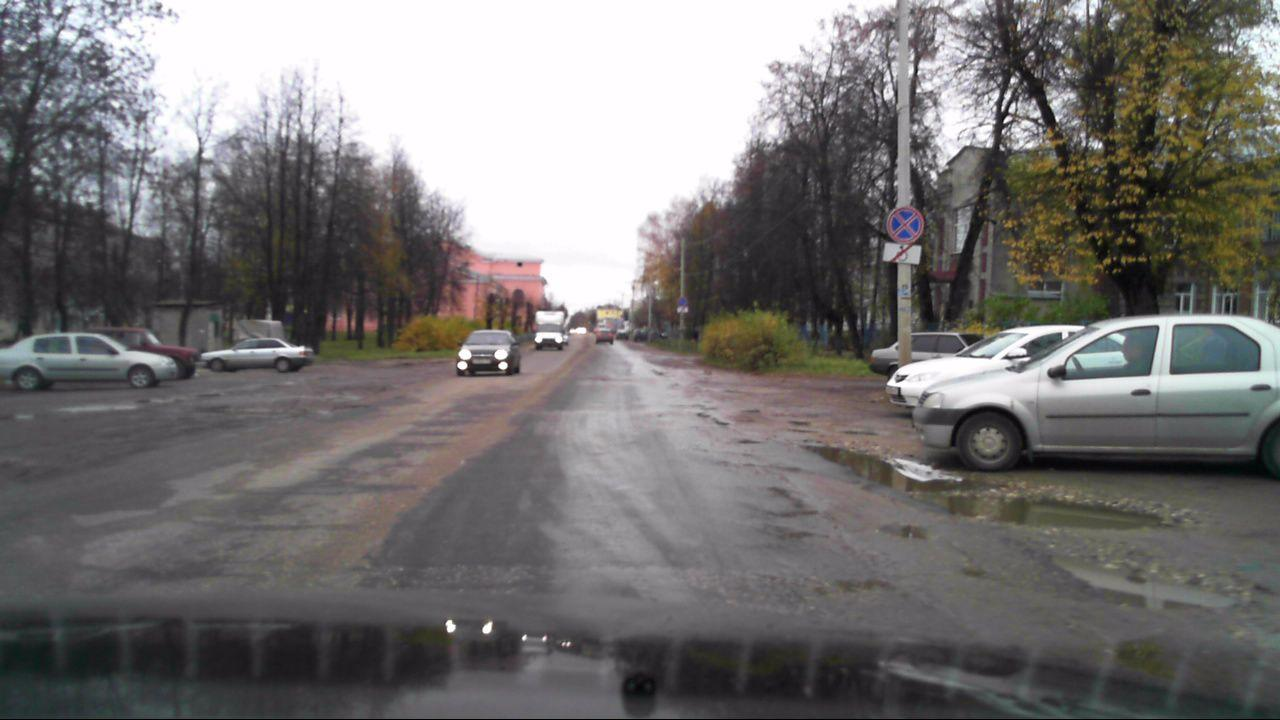3_27: (885, 206, 923, 241)
3_28: (677, 295, 688, 305)
8_18: (883, 242, 921, 265), (676, 306, 689, 313)
